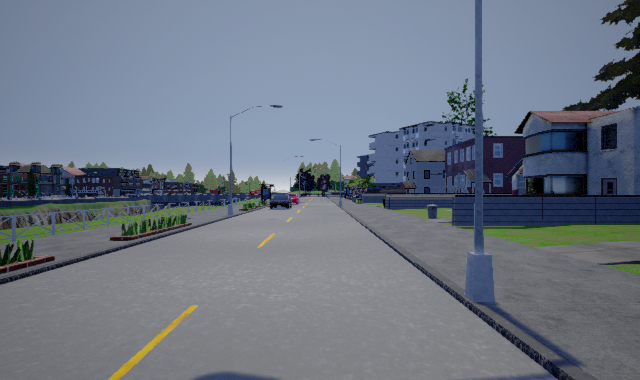vehicle: (270, 193, 291, 210), (287, 192, 300, 204)
